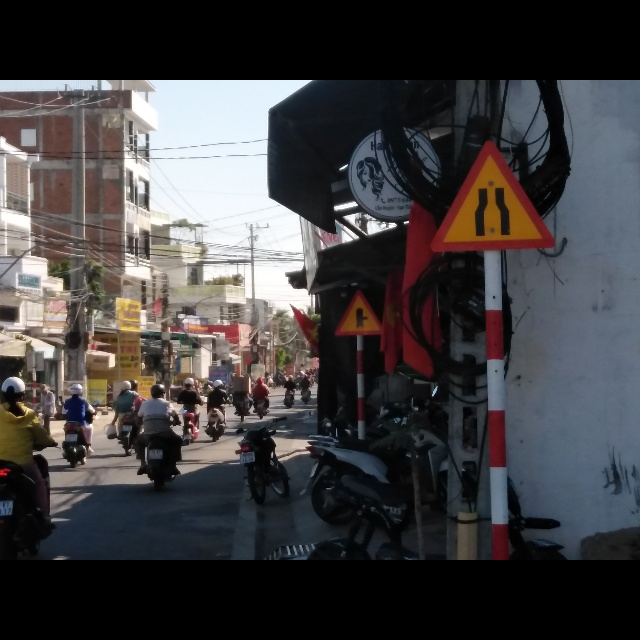Giao nhau với đường không ưu tiên: (334, 290, 385, 338)
Đường bị hẹp cả hai bên: (429, 140, 559, 254)
